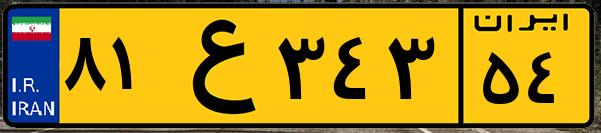1: (110, 28, 158, 98)
3: (270, 28, 330, 110), (385, 28, 445, 110)
4: (330, 28, 385, 110), (525, 38, 570, 115)
5: (475, 38, 525, 113)
8: (57, 26, 110, 100)
ع: (158, 12, 270, 120)
